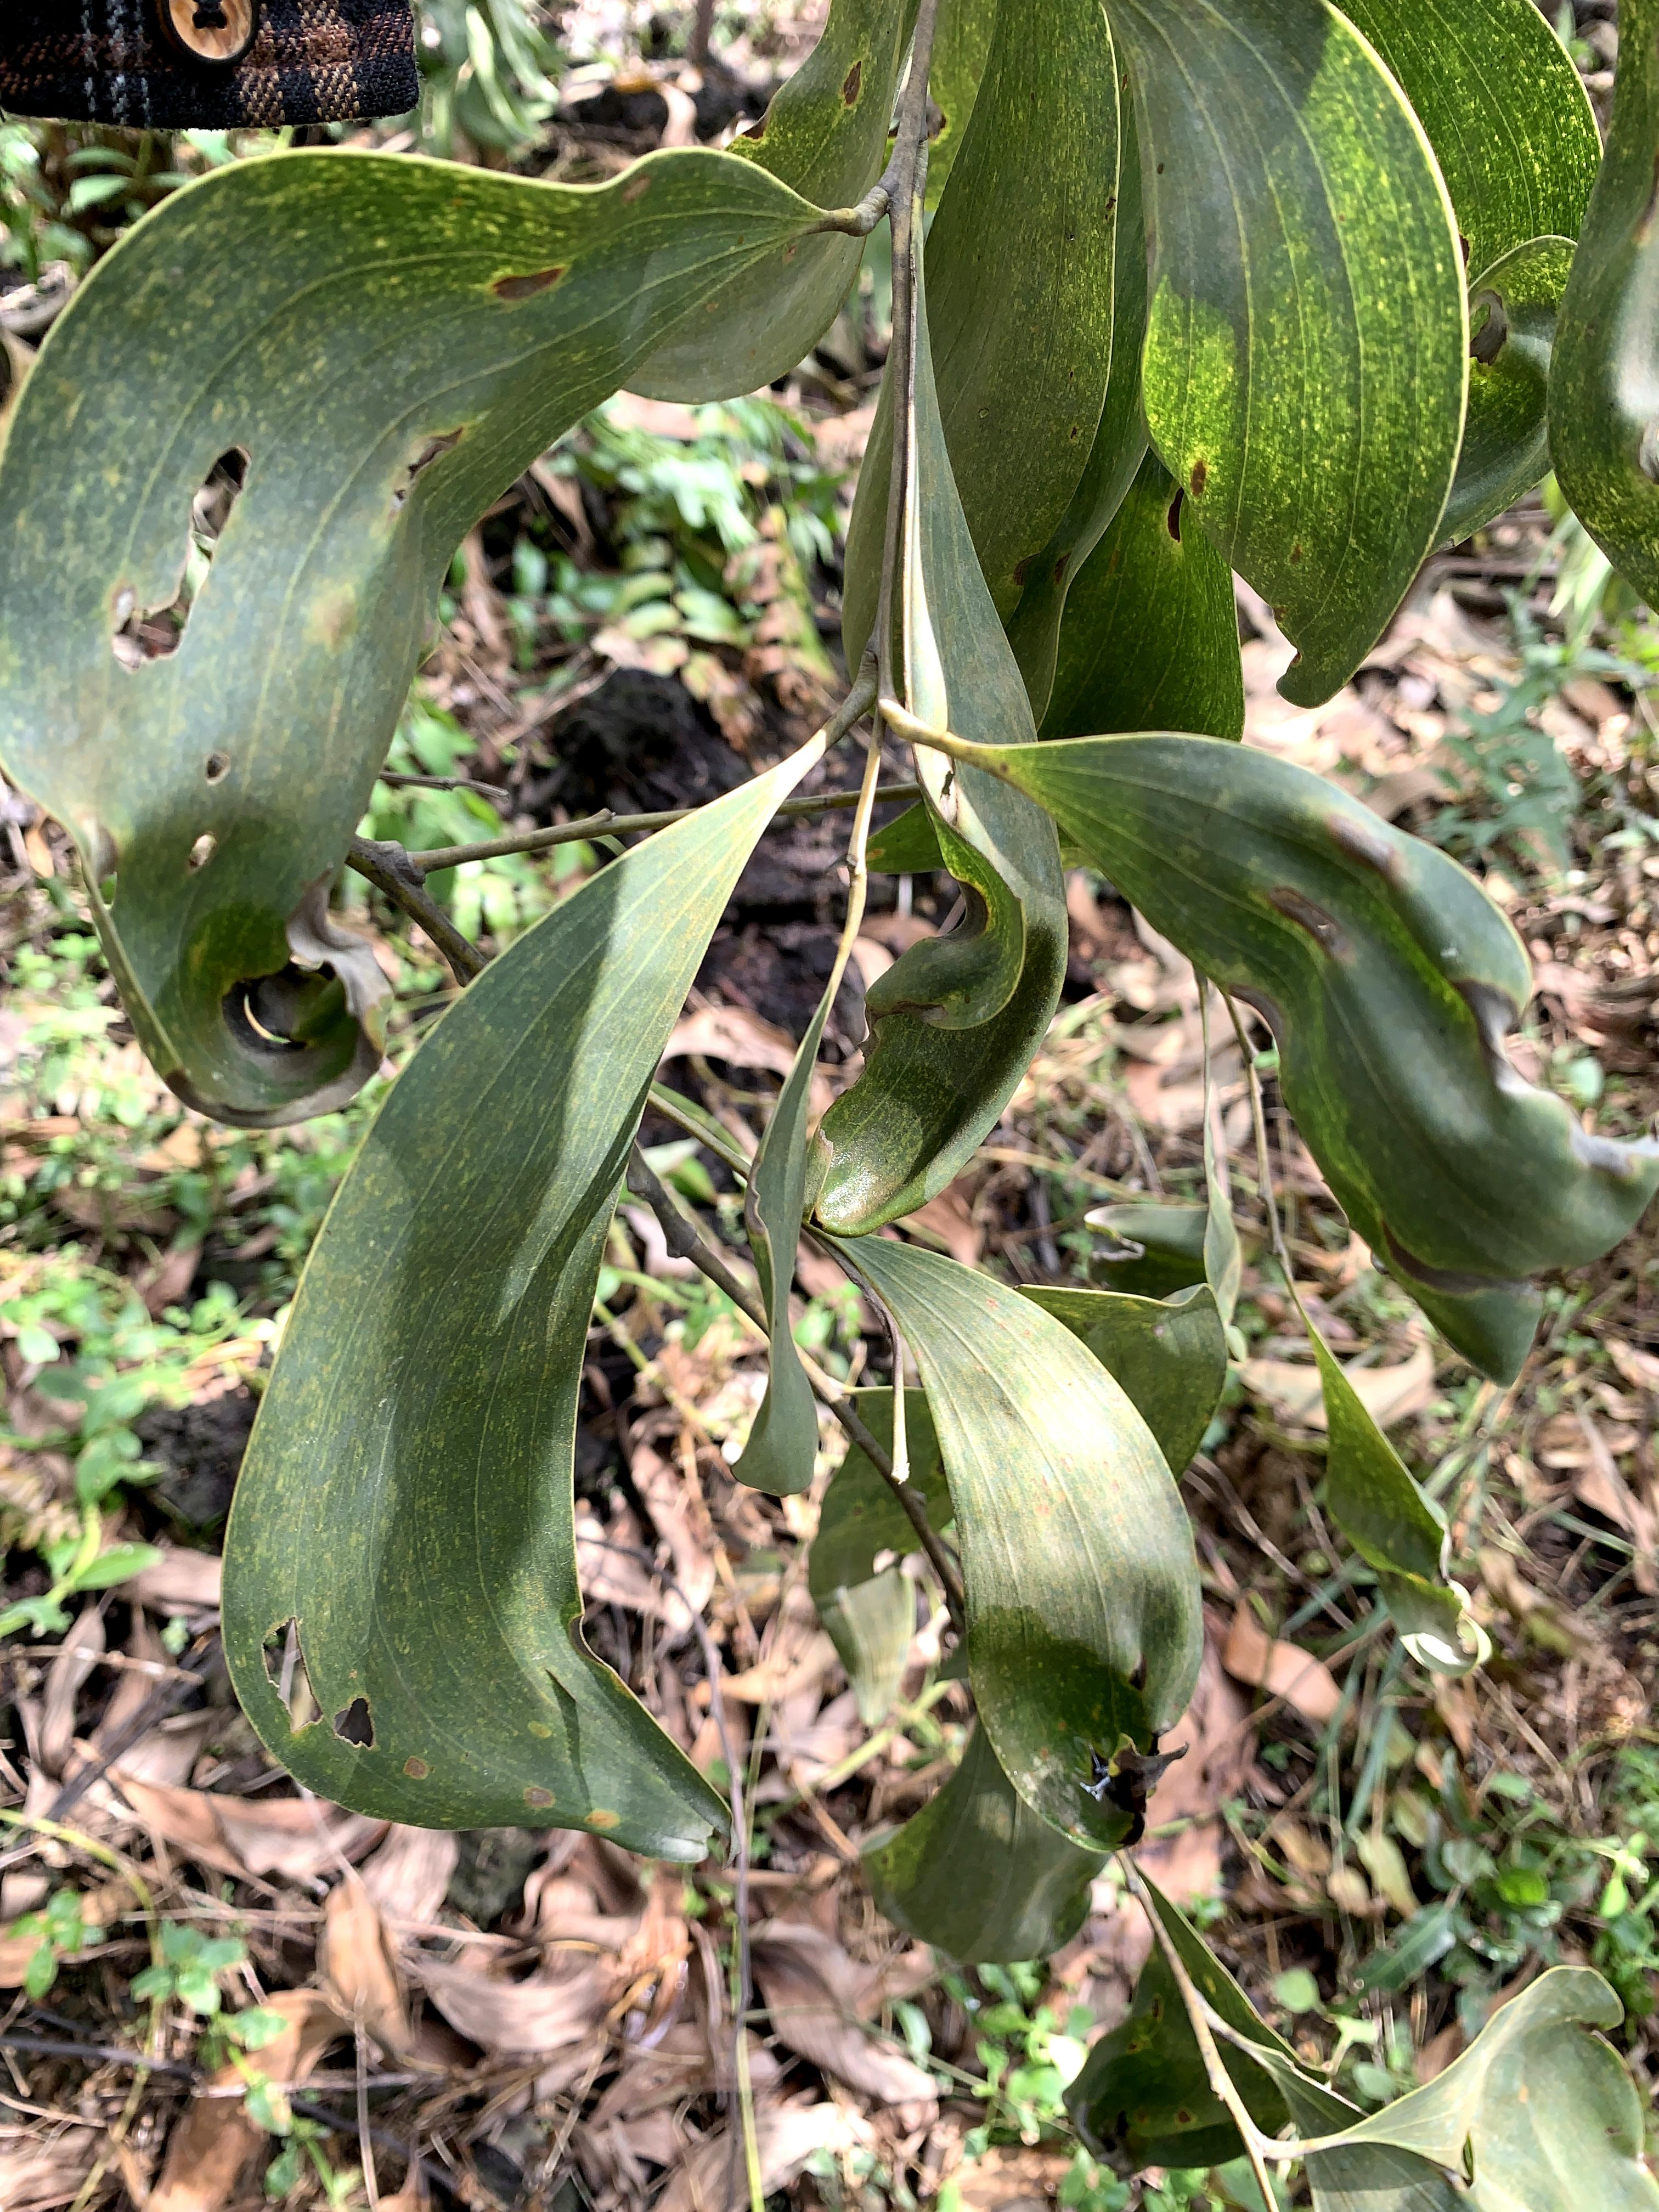Pasalora: (1206, 754, 1652, 1357), (0, 538, 401, 1191), (845, 1399, 1213, 1959), (735, 834, 1087, 1245)
